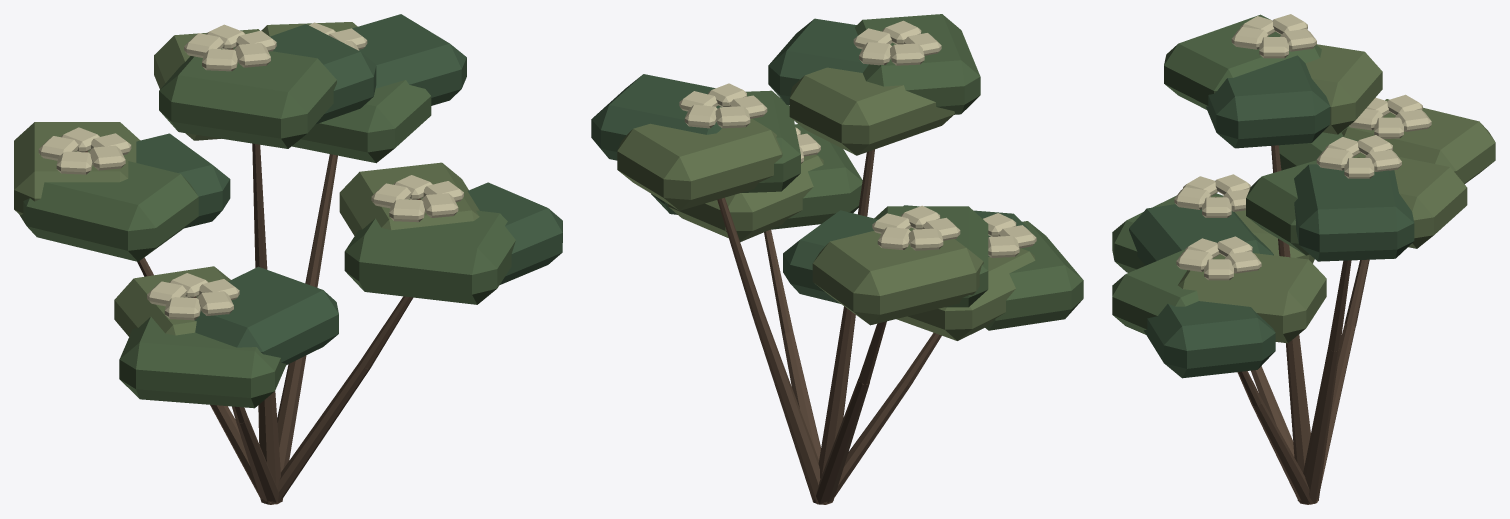
File: elderberry_summer.glb
The picture shows the model from 3 angles, left to right: view 1: azimuth 30°, elevation 25°; view 2: azimuth 150°, elevation 25°; view 3: azimuth 270°, elevation 25°; orthographic projection. The views are drawn at different scales.
Visible parts, largest first — view 1: elderberry_summer; view 2: elderberry_summer; view 3: elderberry_summer.
Boxes of the visible parts, x1,y1,x2,y2 form: elderberry_summer: (14,14,562,504); elderberry_summer: (591,14,1083,504); elderberry_summer: (1112,14,1495,504).
Bounding box in the file's own units: 2.16 × 2.31 × 1.8.
